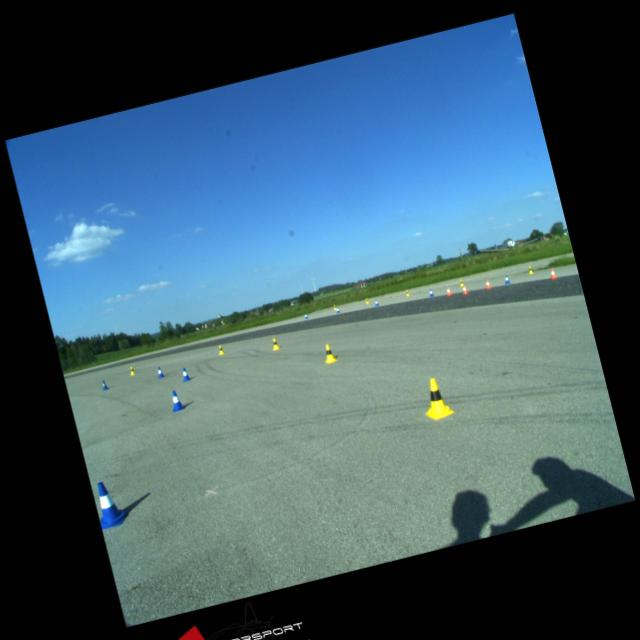blue_cone: (90, 478, 130, 528), (168, 388, 184, 411), (178, 366, 190, 381), (100, 379, 108, 390), (156, 366, 163, 378), (502, 274, 510, 284), (427, 288, 434, 296), (303, 312, 308, 319), (335, 306, 340, 313), (374, 299, 378, 306)
orange_cone: (548, 267, 557, 279), (460, 283, 468, 294), (484, 278, 492, 289), (444, 285, 452, 295)
yellow_cone: (416, 375, 454, 421), (320, 342, 336, 362), (270, 336, 280, 349), (216, 344, 224, 354), (526, 264, 534, 274), (128, 365, 135, 375), (404, 288, 410, 296), (458, 279, 464, 286), (364, 297, 370, 303), (332, 304, 337, 310)
